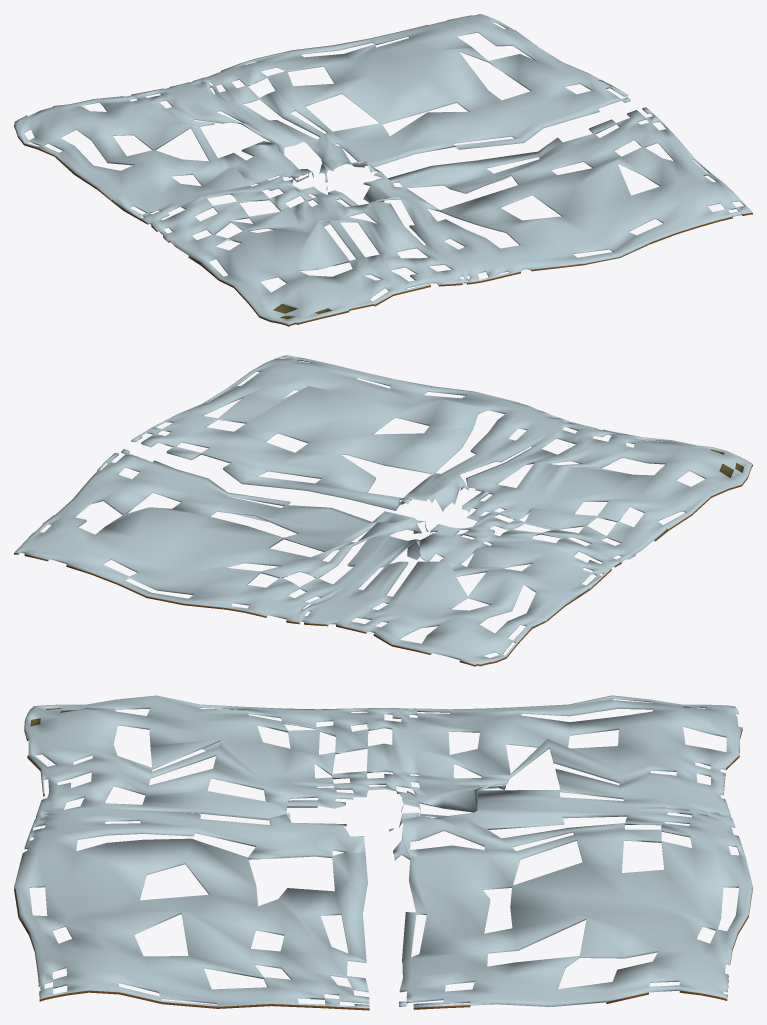
The model's file is GroundSnow.glb.
3 renders of one model, top to bottom at view 1: azimuth 30°, elevation 25°; view 2: azimuth 150°, elevation 25°; view 3: azimuth 270°, elevation 25°, orthographic. The views are drawn at different scales.
Parts seen in each view (by area): view 1: ground_snow; view 2: ground_snow; view 3: ground_snow.
Part boxes in pixels (box(x1,y1,x2,y2)): ground_snow: box(14, 14, 752, 326); ground_snow: box(14, 355, 752, 666); ground_snow: box(14, 695, 752, 1010).
Size of the model in its own units: 157 by 13.13 by 159.
